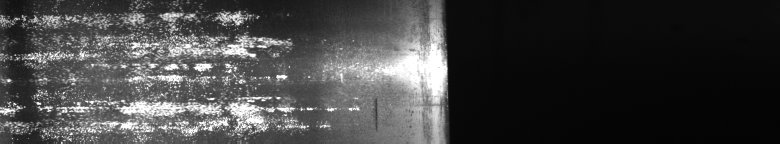kb: (4, 4, 432, 136)
